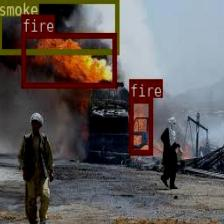fire: (21, 32, 116, 86), (129, 97, 152, 154)
smoke: (0, 0, 119, 54)
